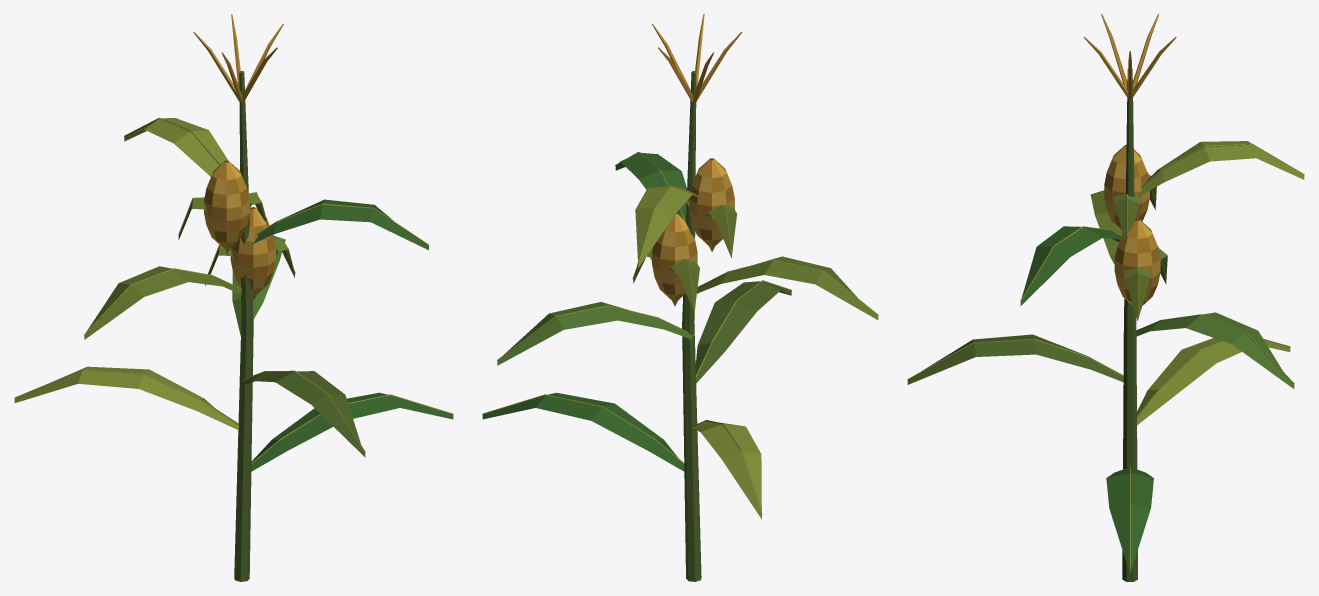
The model's file is milho_maduro.glb.
3 renders of one model, left to right at view 1: azimuth 30°, elevation 25°; view 2: azimuth 150°, elevation 25°; view 3: azimuth 270°, elevation 25°, orthographic.
Parts seen in each view (by area): view 1: milho_maduro.012; view 2: milho_maduro.012; view 3: milho_maduro.012.
Part boxes in pixels (x1,y1,x2,y2): milho_maduro.012: (14,14,453,581); milho_maduro.012: (482,14,878,581); milho_maduro.012: (907,14,1304,581).
Bounding box in the file's own units: 1.38 × 1.87 × 1.23.
